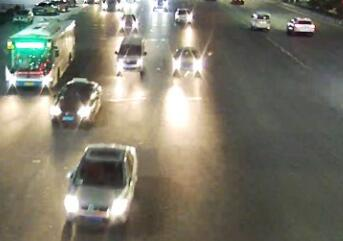bus: (5, 19, 76, 89)
car: (64, 143, 138, 230), (52, 79, 103, 130), (112, 35, 149, 76), (171, 43, 205, 73), (286, 16, 316, 33), (248, 10, 273, 30), (118, 13, 139, 33), (31, 0, 59, 15), (173, 6, 193, 24), (13, 7, 34, 22), (102, 0, 122, 11), (149, 0, 169, 11)
